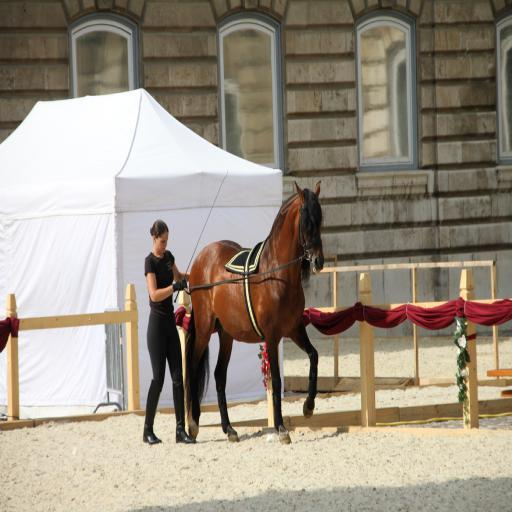Horse: (182, 177, 322, 447)
